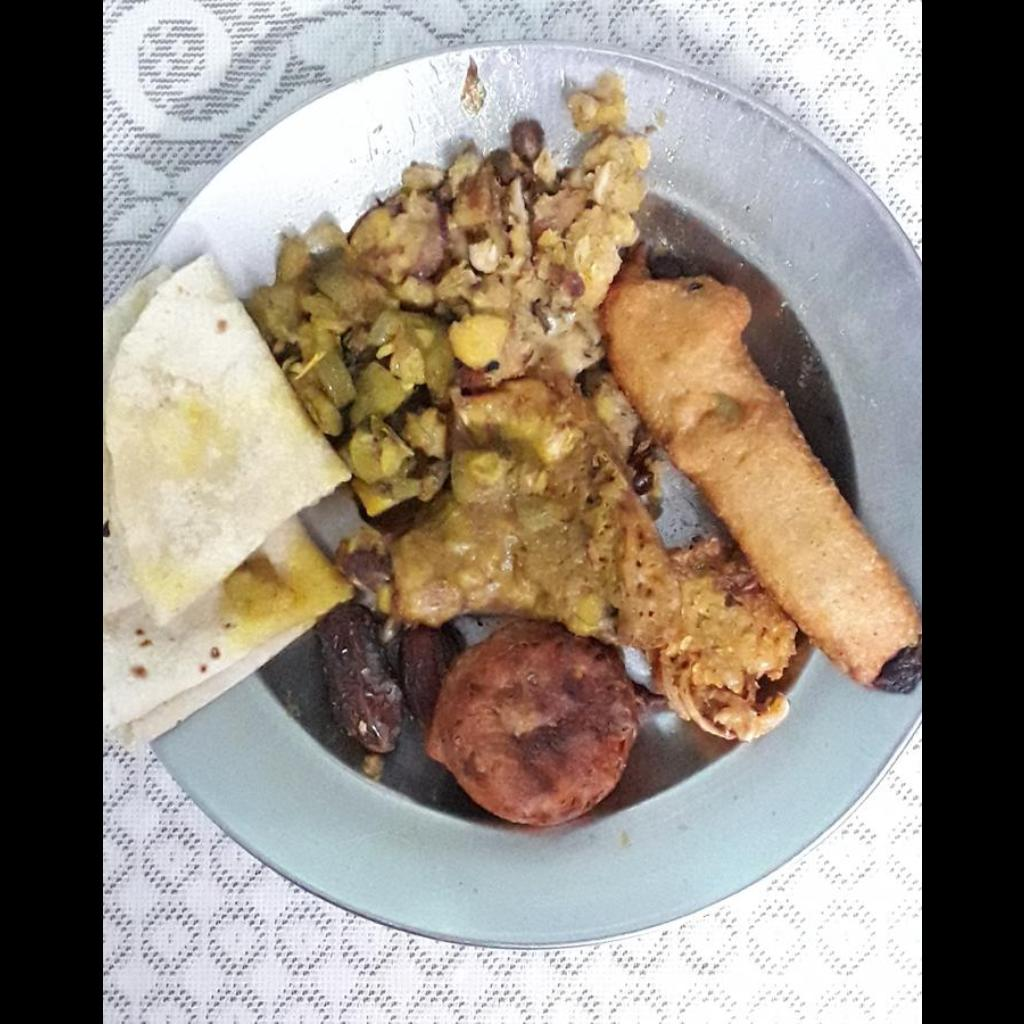beguni: (389, 378, 795, 741), (610, 278, 920, 697)
chola: (243, 81, 645, 517)
chop-alu: (426, 628, 639, 821)
dates: (314, 601, 462, 776)
ruti: (106, 254, 348, 740)
